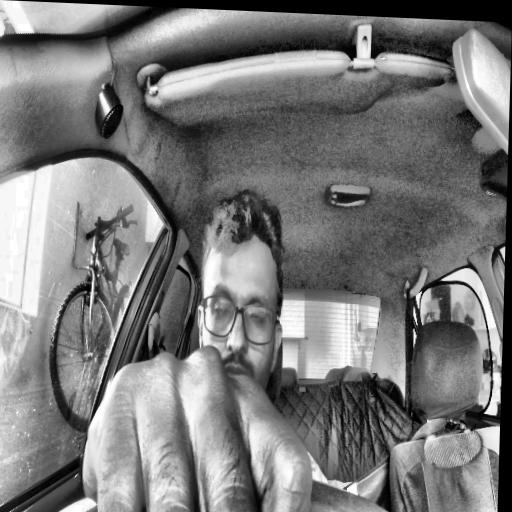drowsy: (194, 186, 288, 414)
